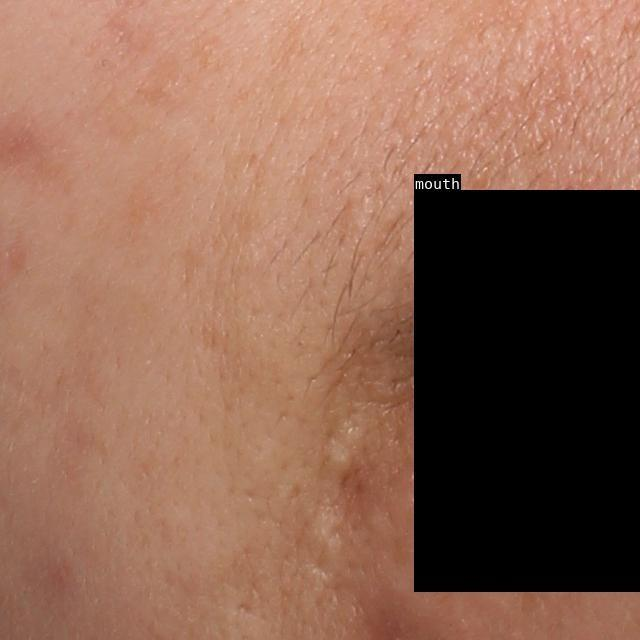hypertrophic_scar: (296, 506, 345, 603), (320, 420, 366, 474)
